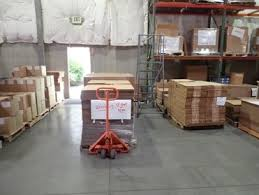Pallet Jack: (80, 85, 135, 160)
